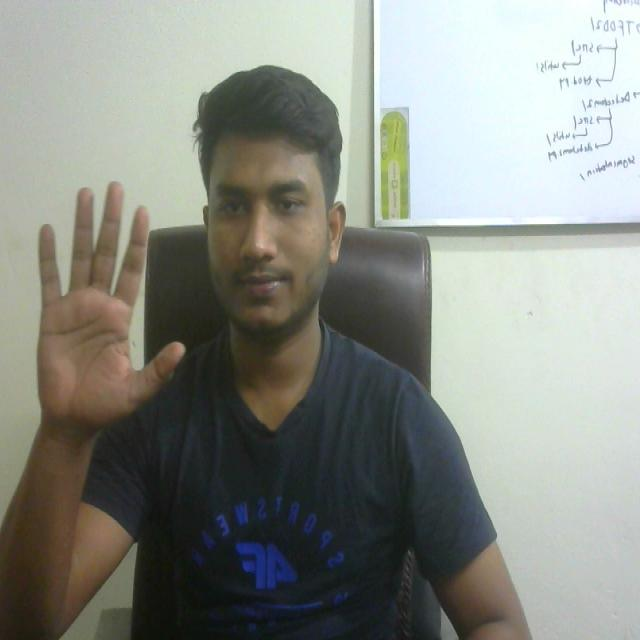A: (18, 159, 189, 436)
